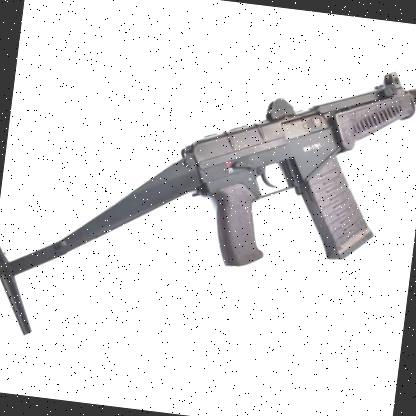rifle: (0, 20, 416, 391)
